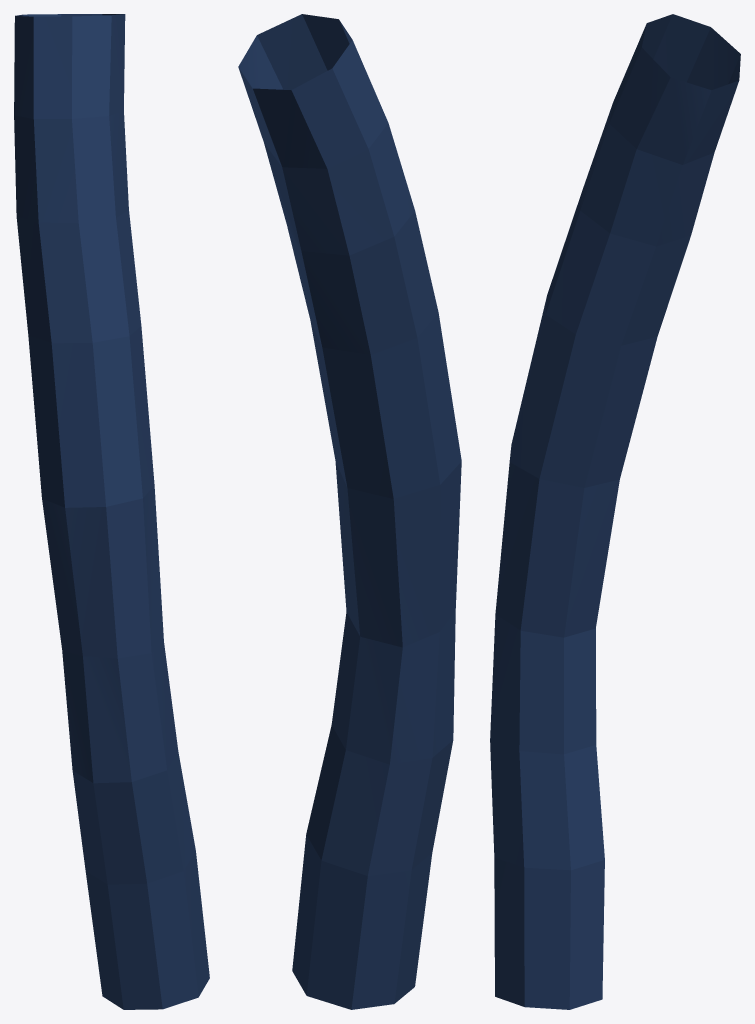
The model's file is VenaPorta.FBX.
3 renders of one model, left to right at view 1: azimuth 30°, elevation 25°; view 2: azimuth 150°, elevation 25°; view 3: azimuth 270°, elevation 25°, orthographic. The views are drawn at different scales.
Visible parts, largest first — view 1: CS_Veins; view 2: CS_Veins; view 3: CS_Veins.
Part boxes in pixels (x1=…): CS_Veins: x1=14, y1=14, x2=209, y2=1009; CS_Veins: x1=238, y1=14, x2=461, y2=1009; CS_Veins: x1=490, y1=14, x2=740, y2=1009.
Bounding box in the file's own units: 1.96 × 12.32 × 2.93.
